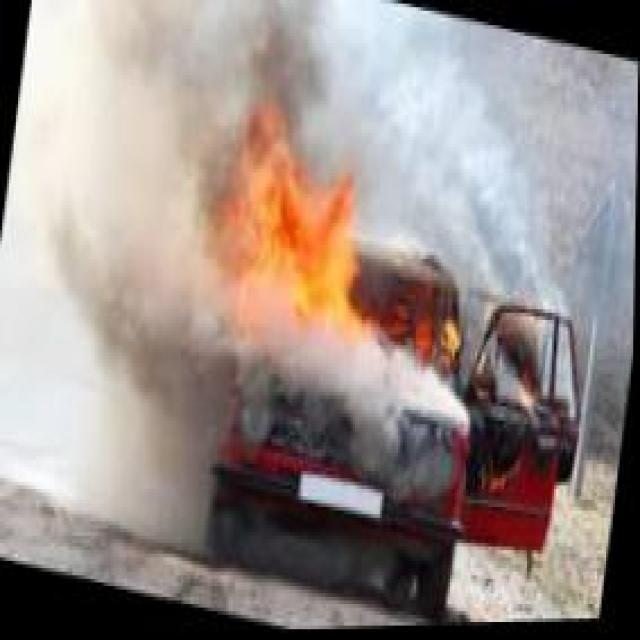Fire: (190, 97, 378, 356), (310, 169, 488, 435), (443, 255, 586, 510)
Smoke: (0, 0, 251, 529), (196, 313, 479, 503)
